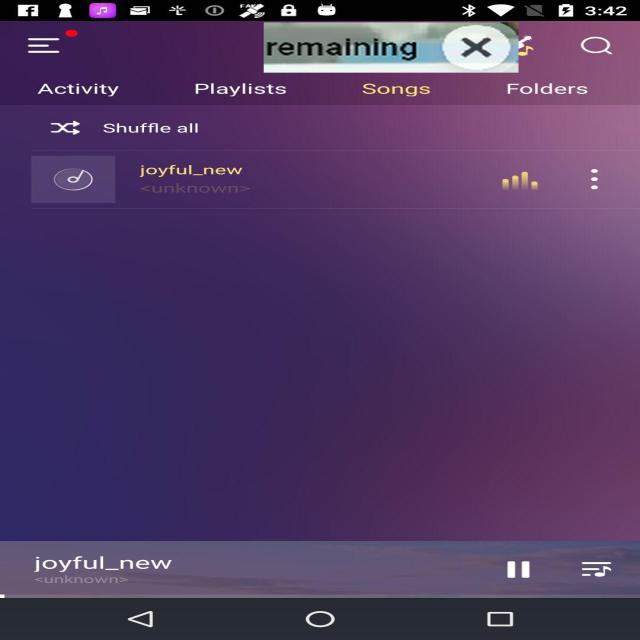misdirection: (264, 22, 518, 73)
